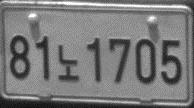0: (134, 38, 155, 84)
1: (34, 34, 50, 81), (86, 35, 102, 82)
5: (159, 38, 183, 85)
7: (106, 37, 132, 84)
8: (9, 35, 31, 79)
노: (56, 43, 81, 83)
